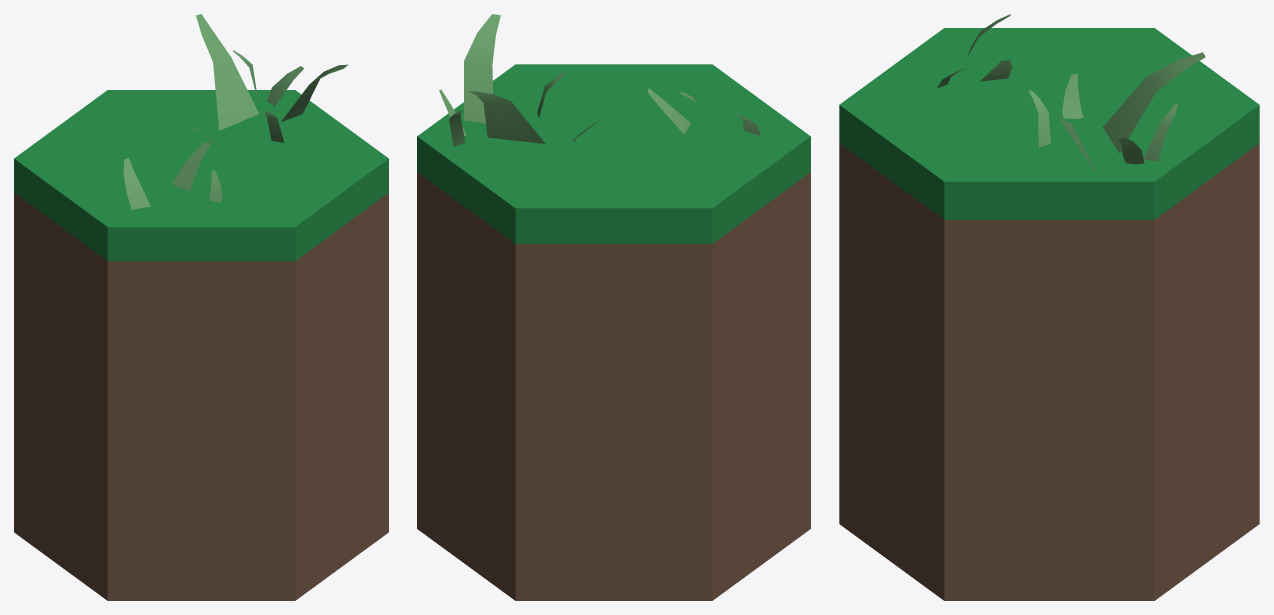
Rendered from grass_hex.fbx.
3 renders of one model, left to right at view 1: azimuth 30°, elevation 25°; view 2: azimuth 150°, elevation 25°; view 3: azimuth 270°, elevation 25°, orthographic. The views are drawn at different scales.
Parts seen in each view (by area): view 1: Cylinder, Cylinder.001, Plane; view 2: Cylinder, Cylinder.001, Plane; view 3: Cylinder, Cylinder.001, Plane.
Part boxes in pixels (<box>): Cylinder: <box>14,193,388,600</box>; Cylinder.001: <box>14,90,388,261</box>; Plane: <box>123,14,347,209</box>; Cylinder: <box>417,172,810,600</box>; Cylinder.001: <box>417,64,810,243</box>; Plane: <box>439,14,760,146</box>; Cylinder: <box>839,143,1259,600</box>; Cylinder.001: <box>839,28,1259,219</box>; Plane: <box>937,14,1205,171</box>.
Size of the model in its own units: 173 by 266 by 200.
